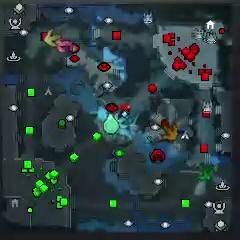p2: (103, 113, 120, 133)
x1: (55, 38, 71, 52)
x2: (44, 30, 61, 46)
x3: (114, 112, 129, 129)
x4: (197, 163, 215, 180)
x5: (162, 123, 179, 140)
